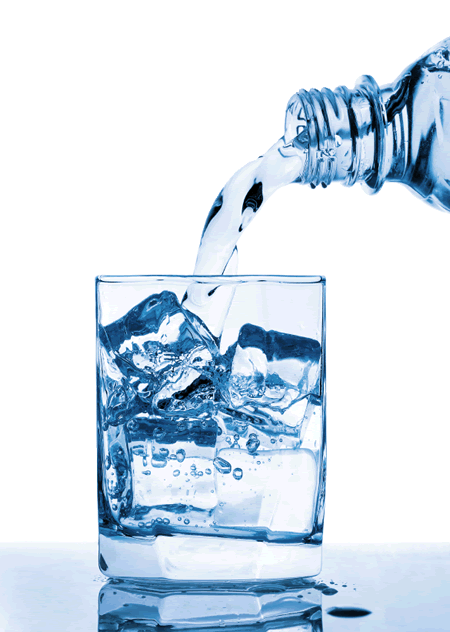glass of water: (98, 281, 328, 571)
